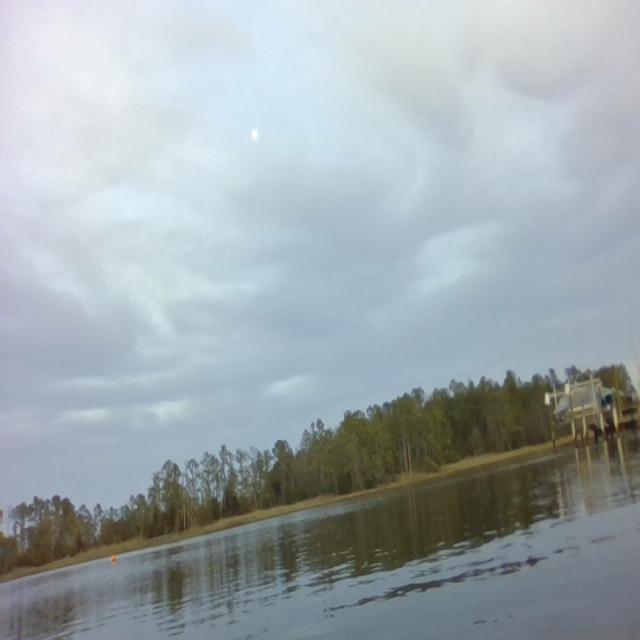Buoy: (111, 550, 120, 566)
